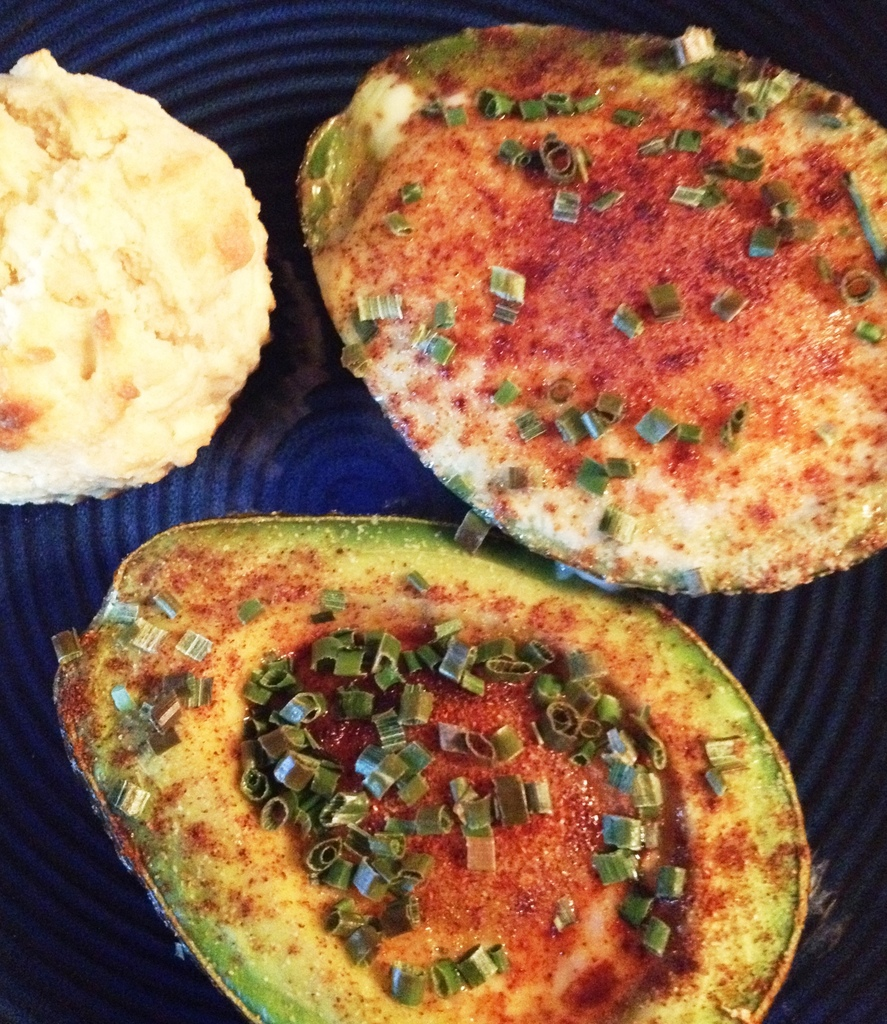Pizza: (52, 510, 818, 1023), (0, 42, 276, 508), (567, 238, 874, 574), (319, 268, 554, 490), (300, 71, 538, 261), (685, 55, 885, 240), (542, 16, 717, 225), (384, 25, 517, 219)
